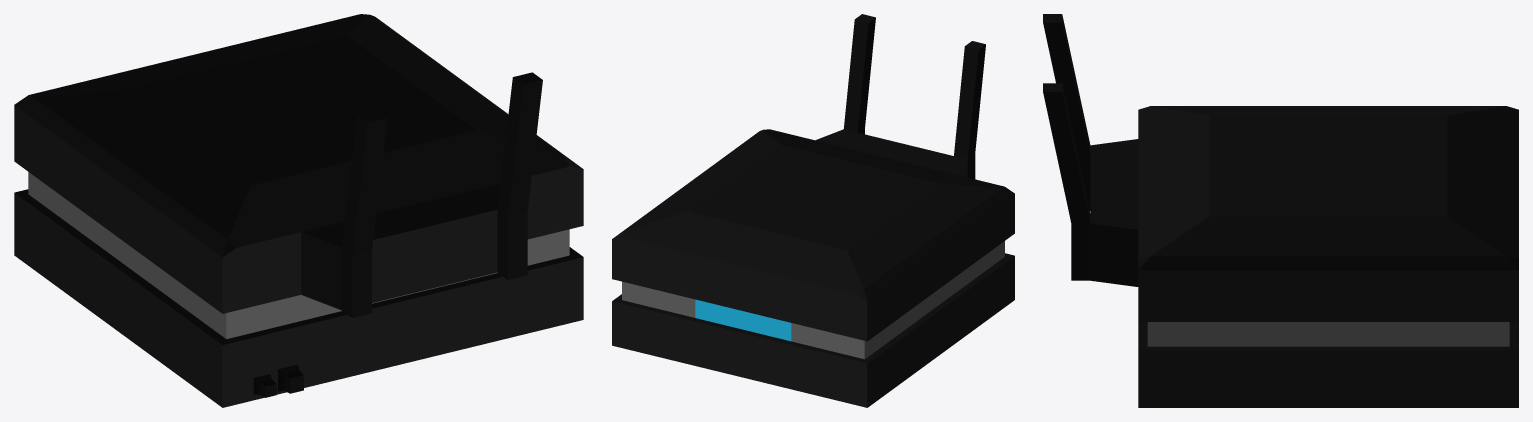
File: Router.fbx
The picture shows the model from 3 angles, left to right: view 1: azimuth 30°, elevation 25°; view 2: azimuth 150°, elevation 25°; view 3: azimuth 270°, elevation 25°; orthographic projection. The views are drawn at different scales.
Parts seen in each view (by area): view 1: Node 0; view 2: Node 0; view 3: Node 0.
Boxes of the visible parts, x1=… form: Node 0: x1=14, y1=14, x2=583, y2=407; Node 0: x1=612, y1=14, x2=1014, y2=407; Node 0: x1=1043, y1=14, x2=1518, y2=407.
Size of the model in its own units: 0.3329 by 0.2119 by 0.2663.
